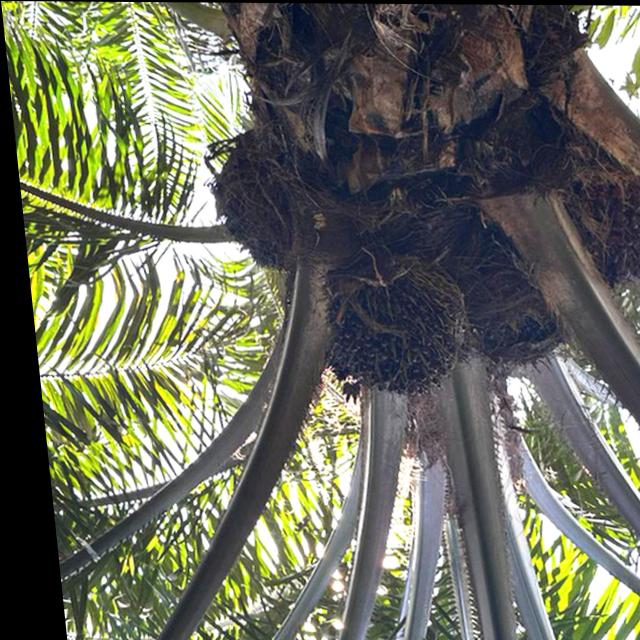unripe: (297, 235, 469, 408), (184, 112, 321, 281), (431, 236, 569, 373), (540, 144, 640, 298)
